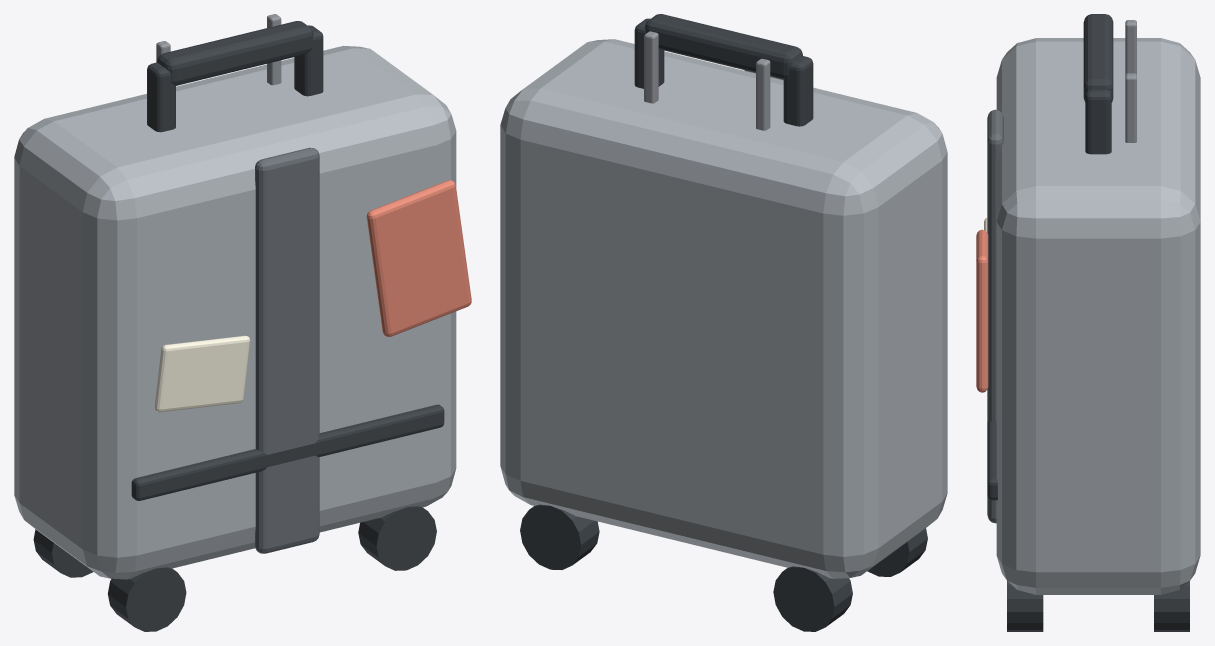
File: npc-silver.glb
The picture shows the model from 3 angles, left to right: view 1: azimuth 30°, elevation 25°; view 2: azimuth 150°, elevation 25°; view 3: azimuth 270°, elevation 25°; orthographic projection. The views are drawn at different scales.
Visible parts, largest first — view 1: Shell, Strap, Tag, LowerBand, Sticker, HandleTop, Wheel, Wheel.002, HandlePost, HandlePost.001, Wheel.001; view 2: Shell, HandleTop, Wheel.001, Wheel.003, HandlePost, Wheel, Rail.001, Rail, HandlePost.001; view 3: Shell, Strap, HandleTop, Tag, HandlePost.001, Wheel.002, Wheel.003, Rail.001, LowerBand, Rail.
Boxes of the visible parts, left/top/right/bottom form: Shell: left=14, top=45, right=456, bottom=579; Strap: left=255, top=147, right=319, bottom=553; Tag: left=366, top=180, right=471, bottom=336; LowerBand: left=131, top=404, right=444, bottom=500; Sticker: left=154, top=335, right=250, bottom=412; HandleTop: left=157, top=21, right=313, bottom=85; Wheel: left=108, top=567, right=186, bottom=631; Wheel.002: left=358, top=506, right=436, bottom=570; HandlePost: left=147, top=62, right=175, bottom=132; HandlePost.001: left=294, top=25, right=323, bottom=96; Wheel.001: left=33, top=529, right=93, bottom=577; Shell: left=500, top=39, right=947, bottom=578; HandleTop: left=645, top=14, right=802, bottom=79; Wheel.001: left=773, top=566, right=852, bottom=631; Wheel.003: left=520, top=504, right=599, bottom=569; HandlePost: left=783, top=56, right=813, bottom=126; Wheel: left=867, top=528, right=927, bottom=576; Rail.001: left=644, top=31, right=658, bottom=103; Rail: left=756, top=58, right=770, bottom=130; HandlePost.001: left=634, top=18, right=664, bottom=88; Shell: left=996, top=38, right=1200, bottom=594; Strap: left=987, top=109, right=1003, bottom=523; HandleTop: left=1083, top=14, right=1113, bottom=102; Tag: left=976, top=229, right=988, bottom=392; HandlePost.001: left=1085, top=89, right=1111, bottom=154; Wheel.002: left=1007, top=581, right=1043, bottom=631; Wheel.003: left=1154, top=581, right=1189, bottom=631; Rail.001: left=1125, top=73, right=1136, bottom=142; LowerBand: left=987, top=421, right=997, bottom=500; Rail: left=1125, top=20, right=1136, bottom=74.
Bounding box in the file's own units: 1.28 × 1.75 × 0.6814.
